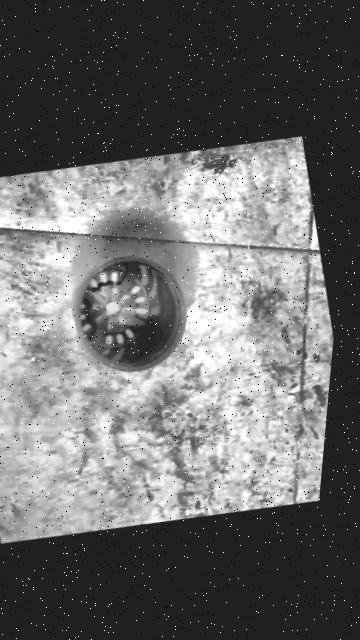pot: (56, 239, 201, 390)
